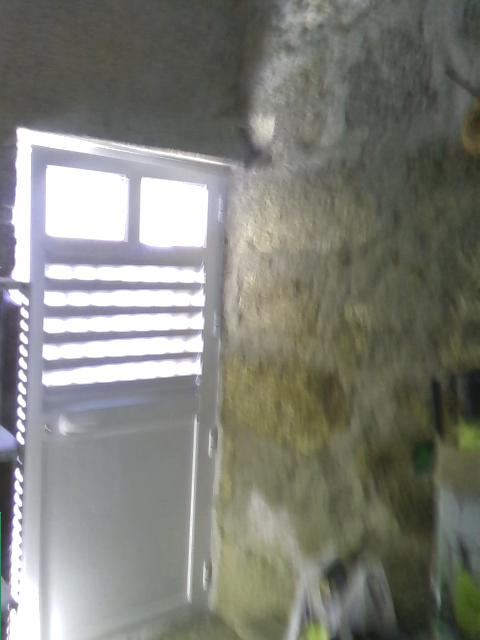closed_door: (19, 143, 234, 639)
